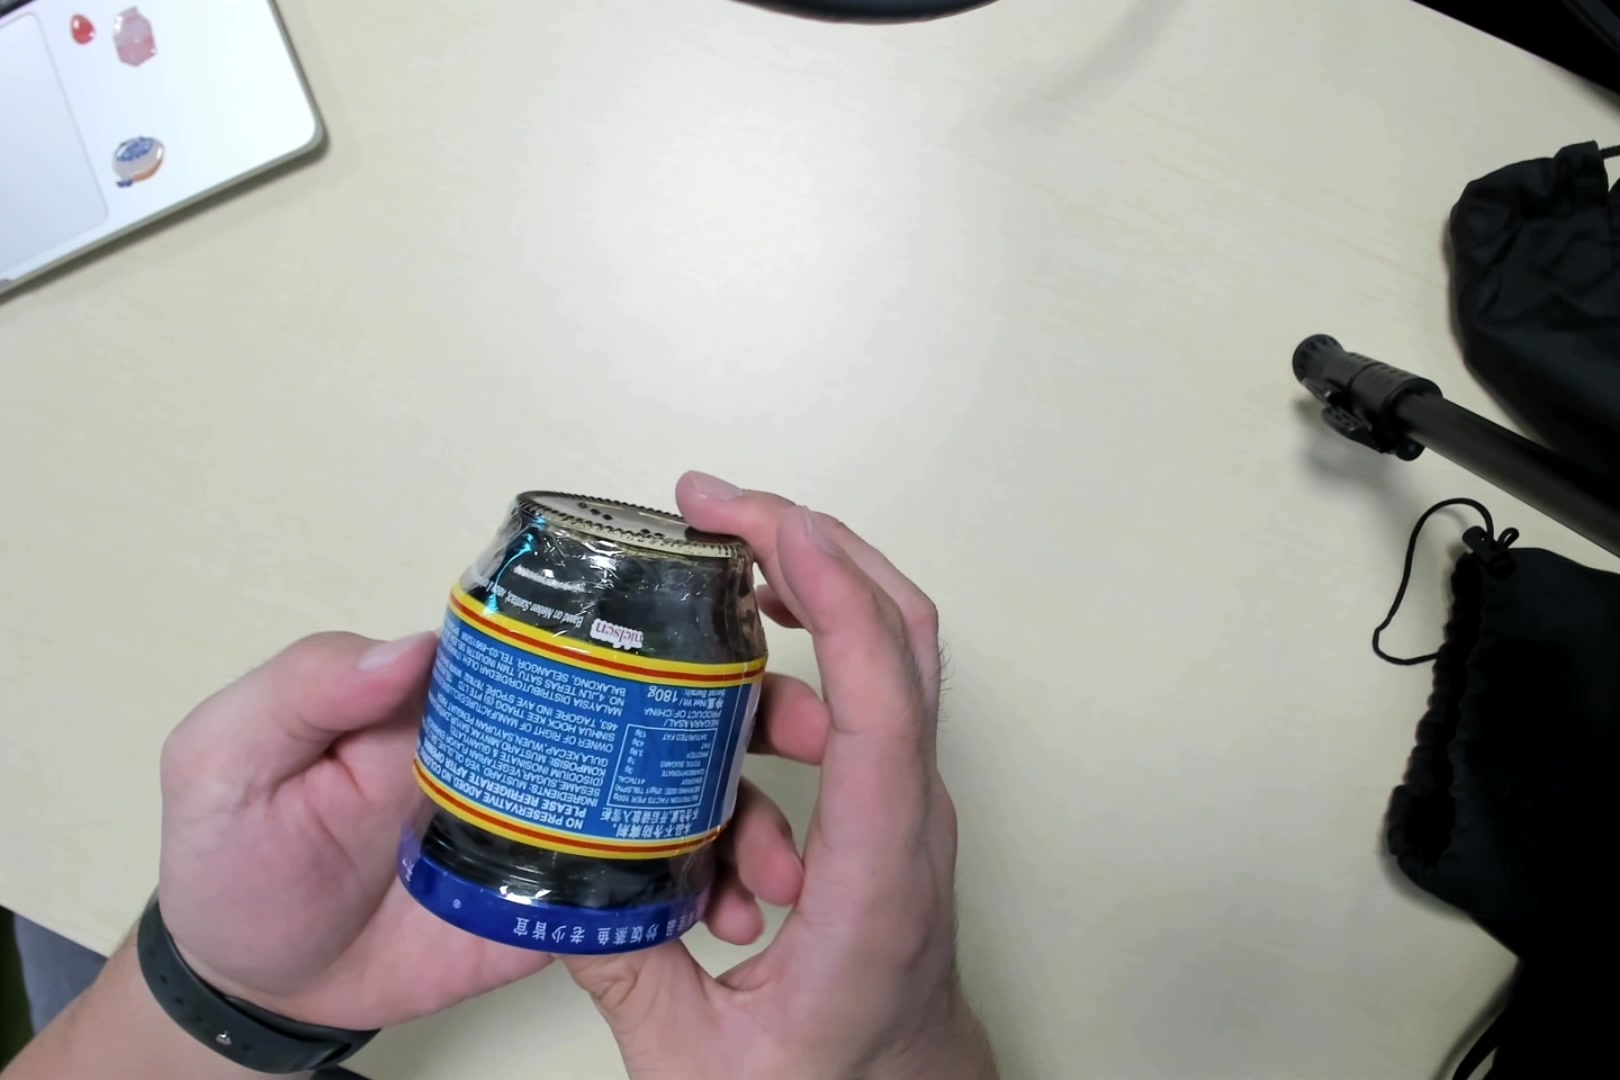CannedPickles_100-199g_NonHalal_NonHealthy: (393, 493, 758, 953)
